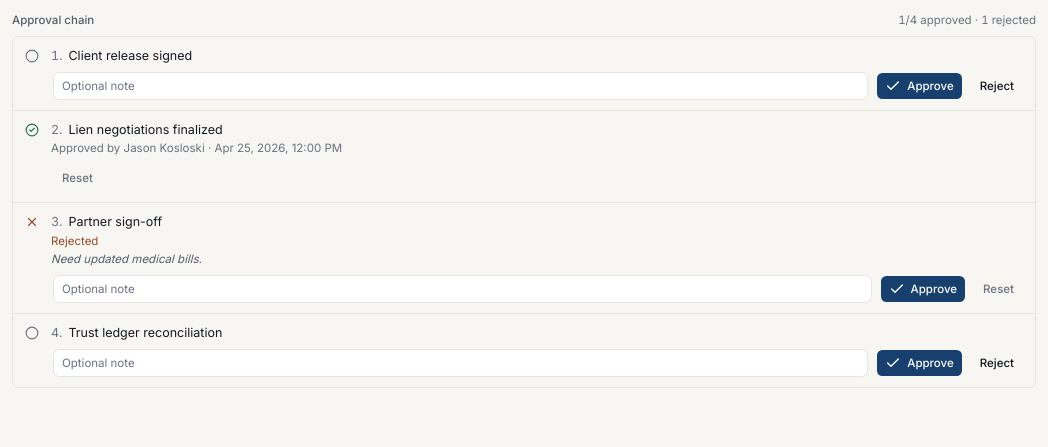
SettlementApprovals — error surface › server error renders inline above the list
Click the 1st button "Approve": (920, 86) x1=876 y1=72 x2=963 y2=100
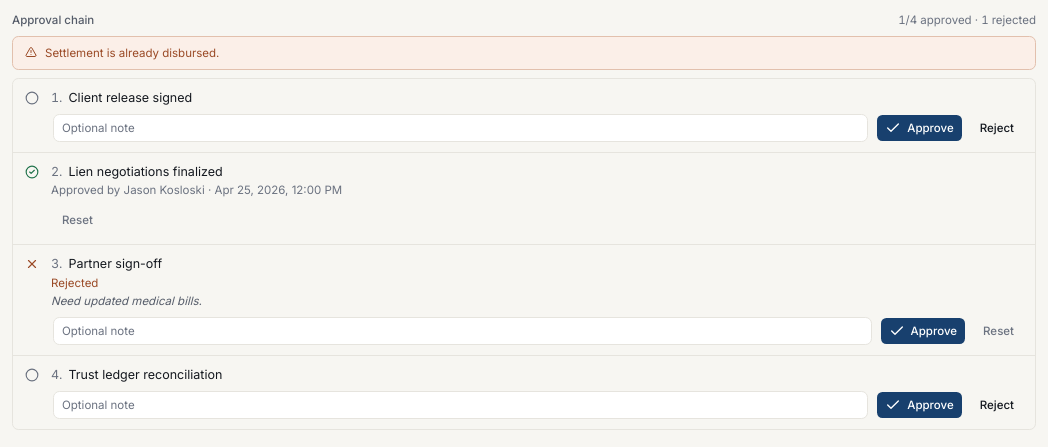
Now the text "Settlement is already disbursed." is shown, box x1=45 y1=45 x2=219 y2=61
